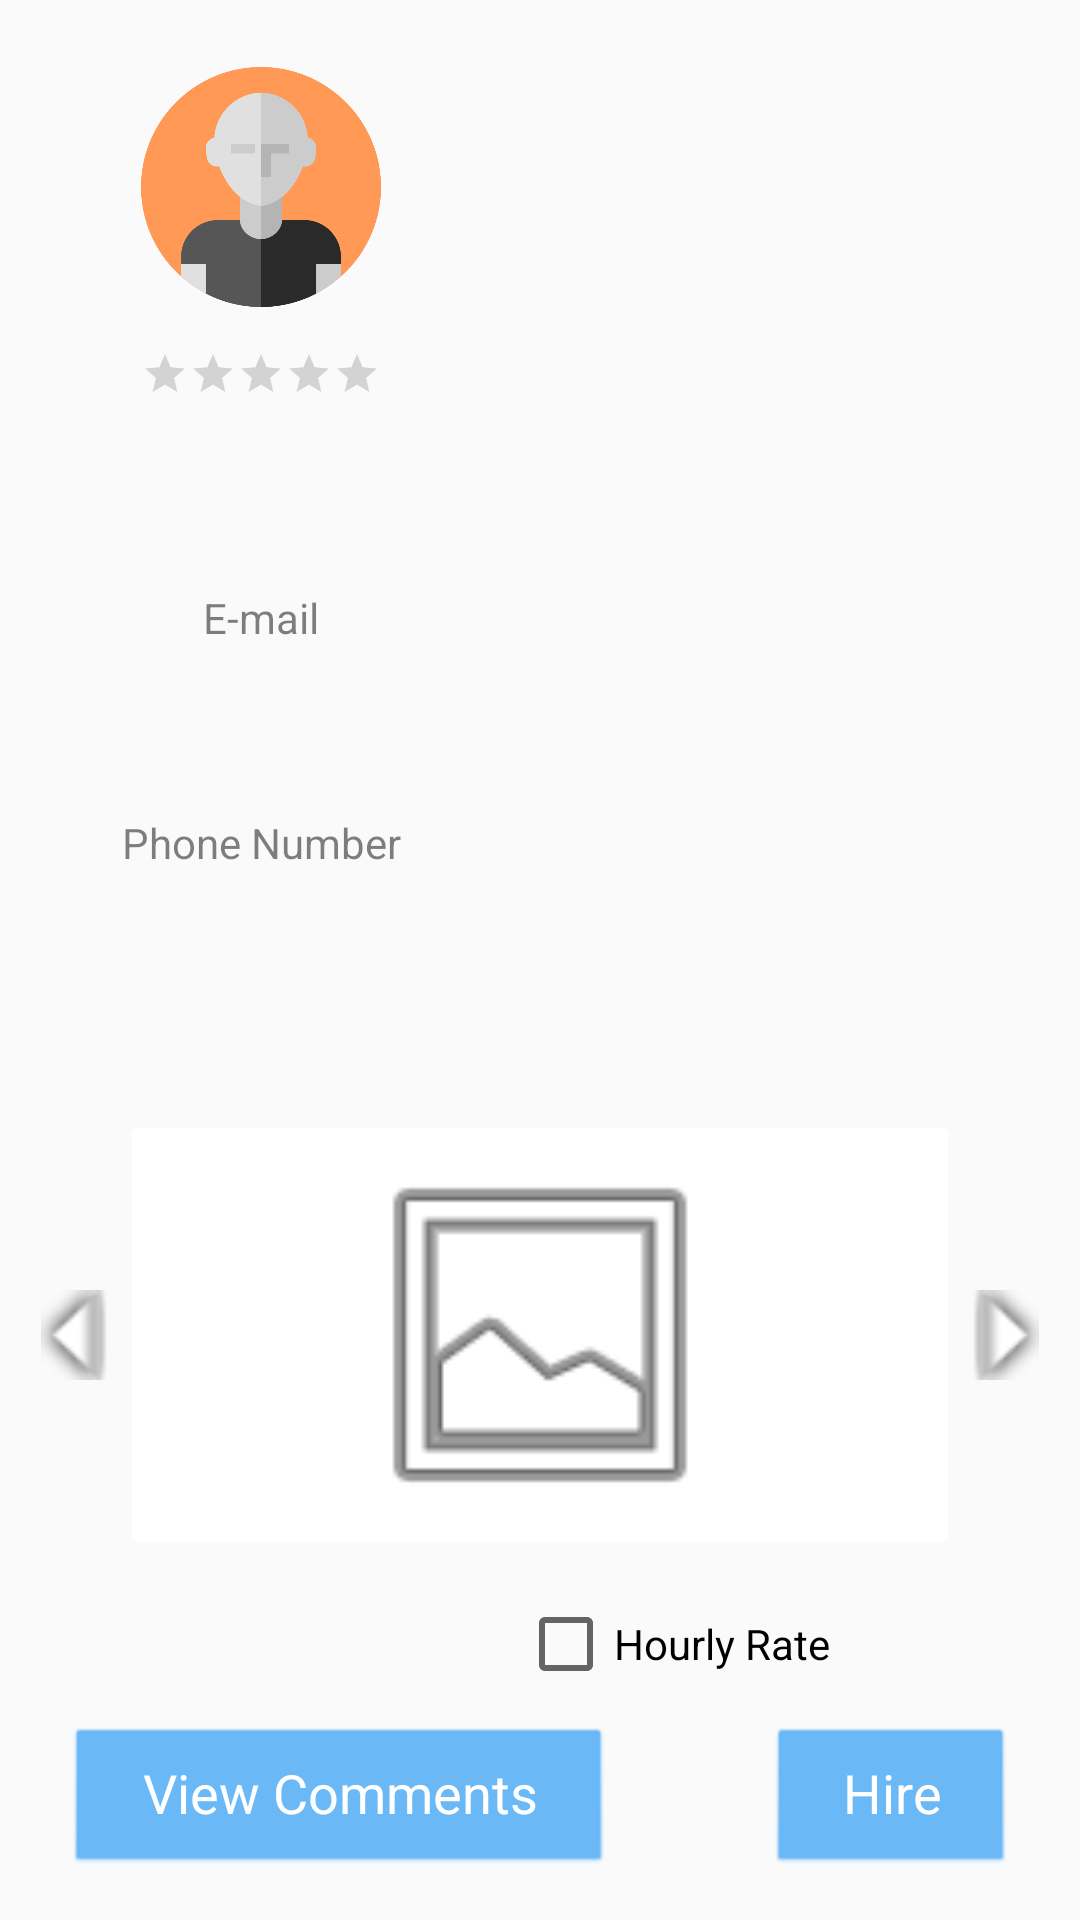

Where to tap for icons on this 1080px×1920px app screen, as [x,y]:
profile: [261,187]
